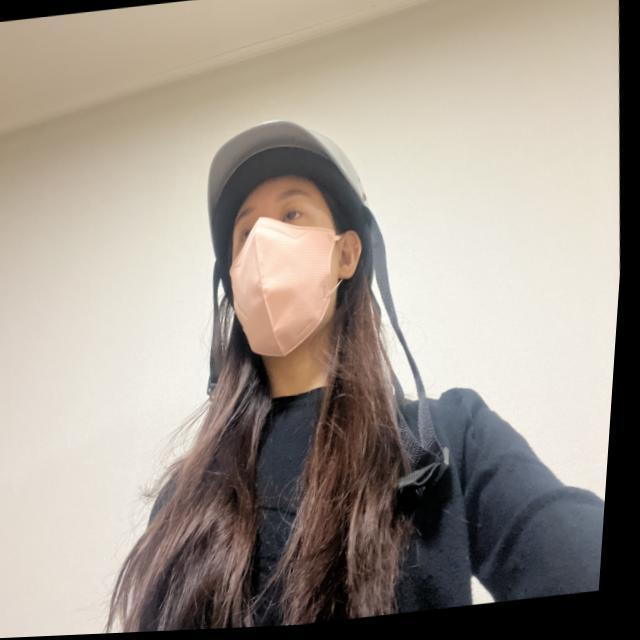Helmet: (198, 113, 398, 385)
